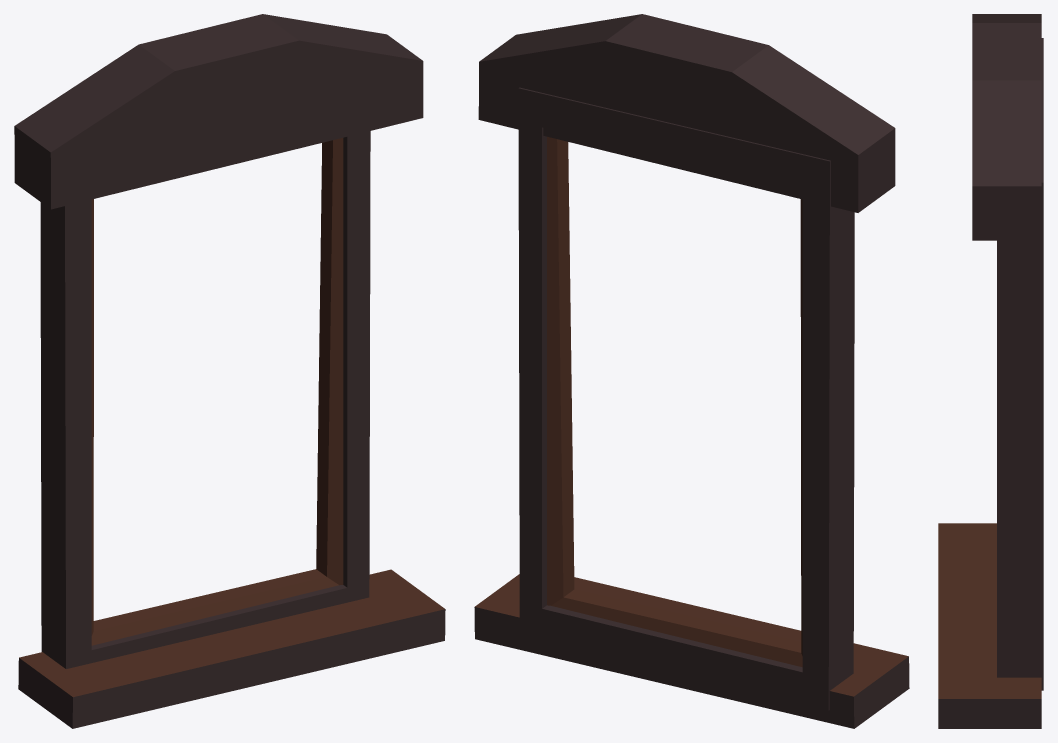
The model's file is Window 2x4 V3 Frame.glb.
3 views of the same model, side by side, from view 1: azimuth 30°, elevation 25°; view 2: azimuth 150°, elevation 25°; view 3: azimuth 270°, elevation 25° (orthographic). The views are drawn at different scales.
Parts seen in each view (by area): view 1: Window 2x4 V3 Frame; view 2: Window 2x4 V3 Frame; view 3: Window 2x4 V3 Frame.
Part boxes in pixels (x1,y1,x2,y2): Window 2x4 V3 Frame: (14, 14, 445, 728); Window 2x4 V3 Frame: (474, 14, 909, 728); Window 2x4 V3 Frame: (938, 14, 1043, 728).
Bounding box in the file's own units: 1.42 × 2.23 × 0.3601.
Materials: 1 (1 with a texture image).
